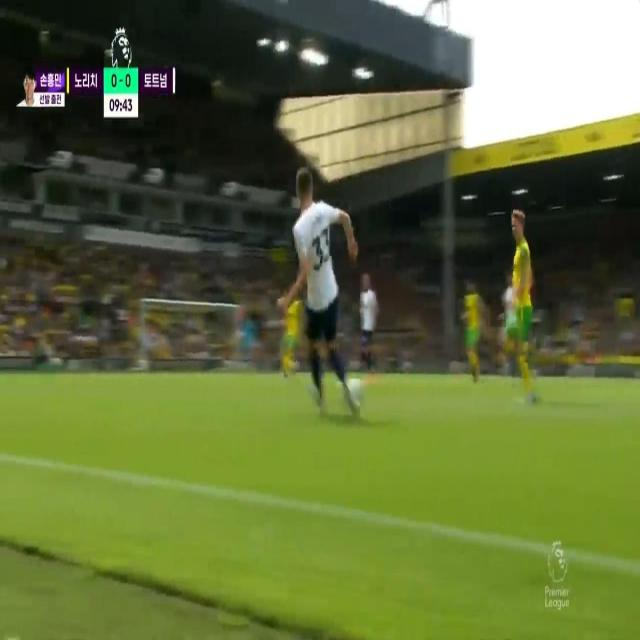ball: (344, 365, 366, 412)
player: (288, 170, 356, 416), (503, 198, 543, 398), (356, 266, 379, 378), (464, 268, 481, 366), (283, 284, 301, 366)
